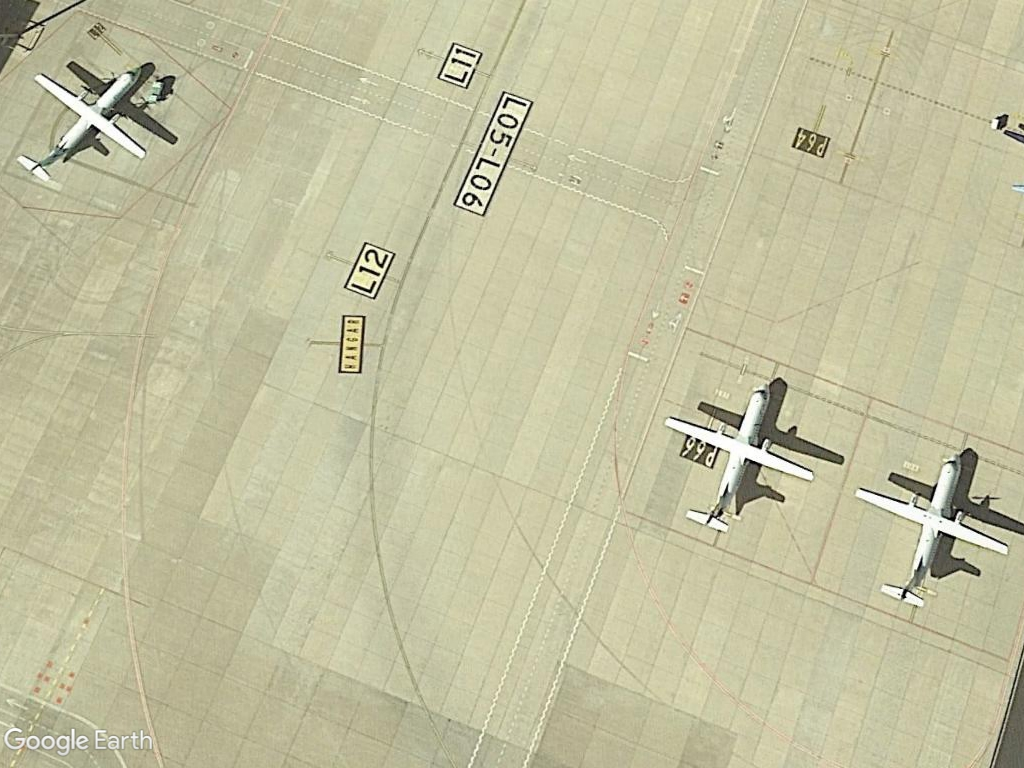propeller: (855, 447, 1012, 620), (665, 370, 819, 544), (16, 54, 152, 193)
